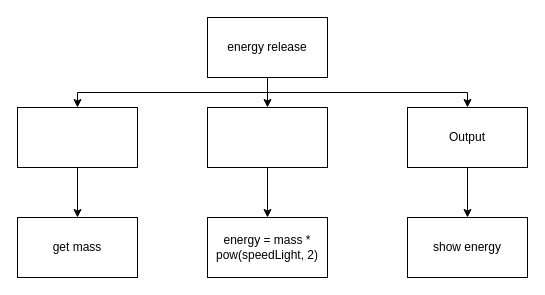
Some shapes in this 545 by 295 pixel diagram are drawn without their labels. The box of each missing label's shape, as (x1, y1, x2, y2) in pixels:
Input: (16, 106, 138, 168)
Process: (206, 106, 328, 168)
